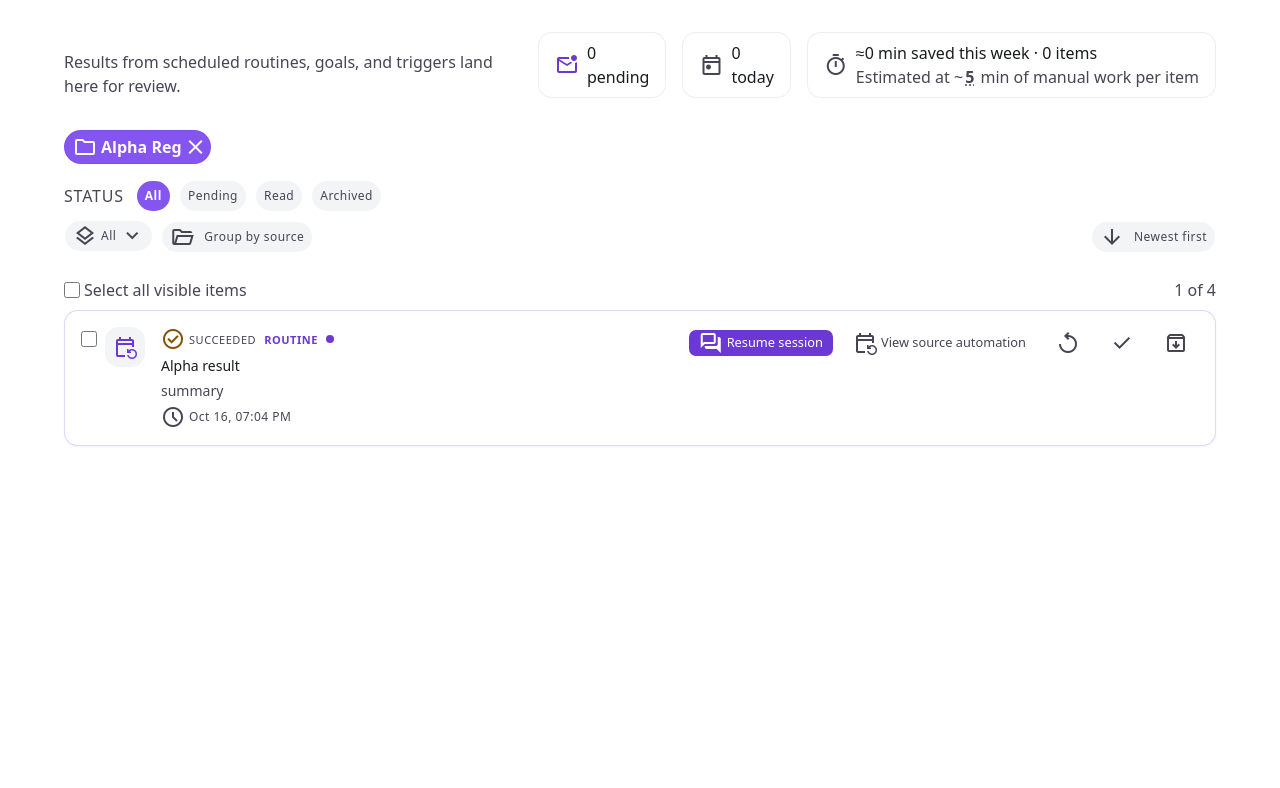
Test case: /triage?project= (P-U3 session join) › hides items whose session lives in another project (or has none)
This screenshot has width=1280, height=788.
Check: the text "Alpha result" is shown, box x1=161 y1=356 x2=240 y2=375
Check: the text "Beta result" is not shown
Note: × restores the unscoped inbox.
Click the button with test id "project-filter-chip-remove" at (196, 147), box x1=188 y1=139 x2=204 y2=155
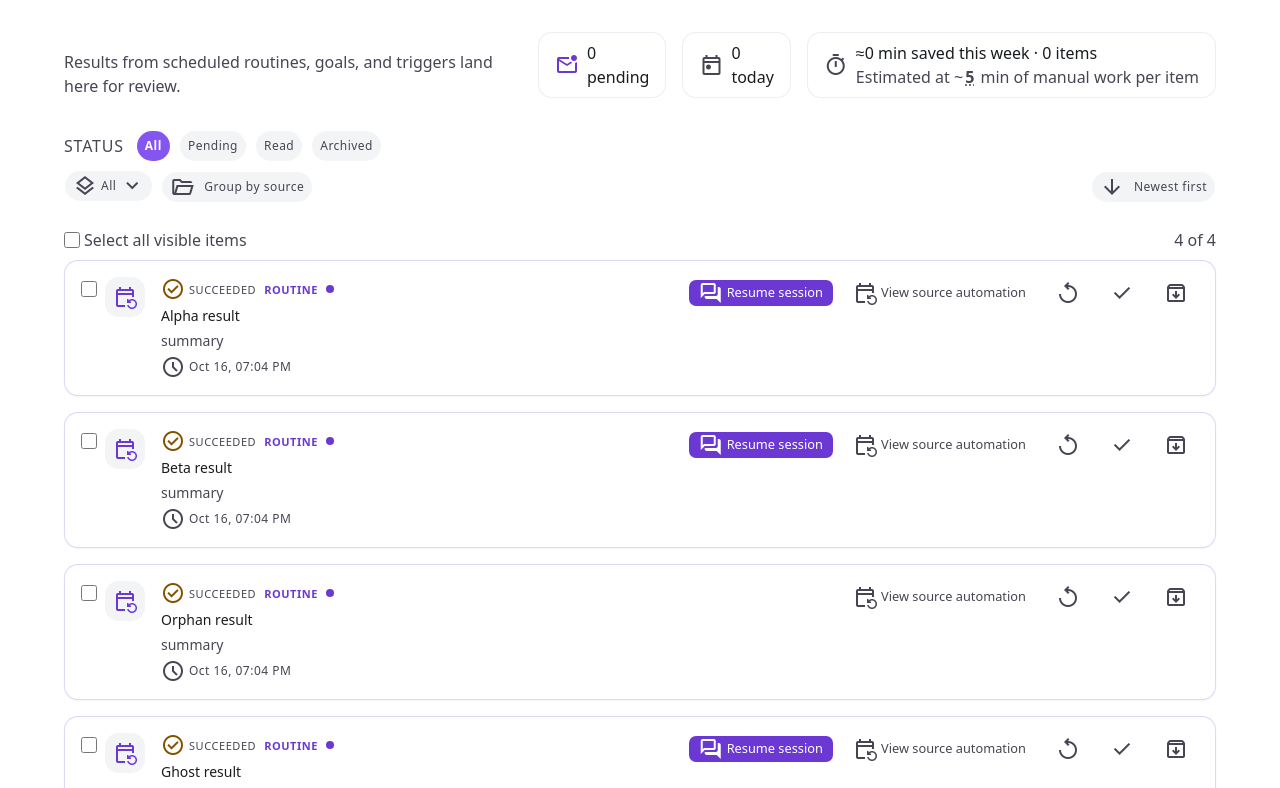
Check: the text "Beta result" is shown, box x1=161 y1=458 x2=232 y2=477
Check: the text "Orphan result" is shown, box x1=161 y1=610 x2=252 y2=629
Check: the text "Ghost result" is shown, box x1=161 y1=762 x2=241 y2=781
